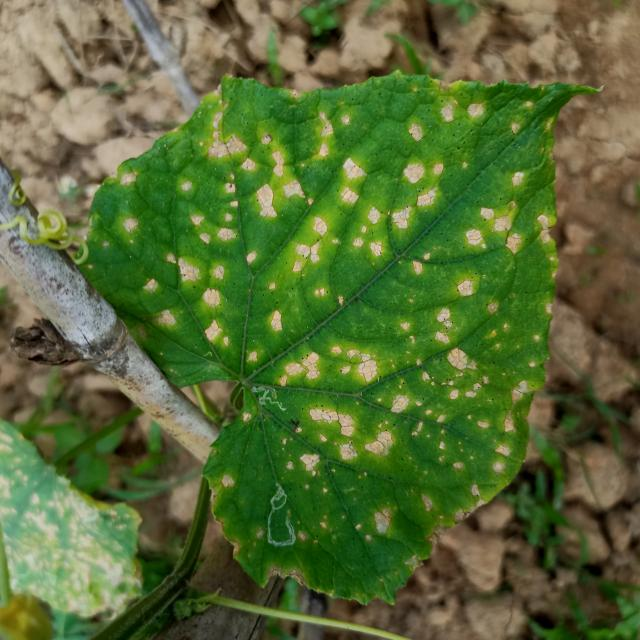disease_cucumber: (118, 81, 551, 578)
